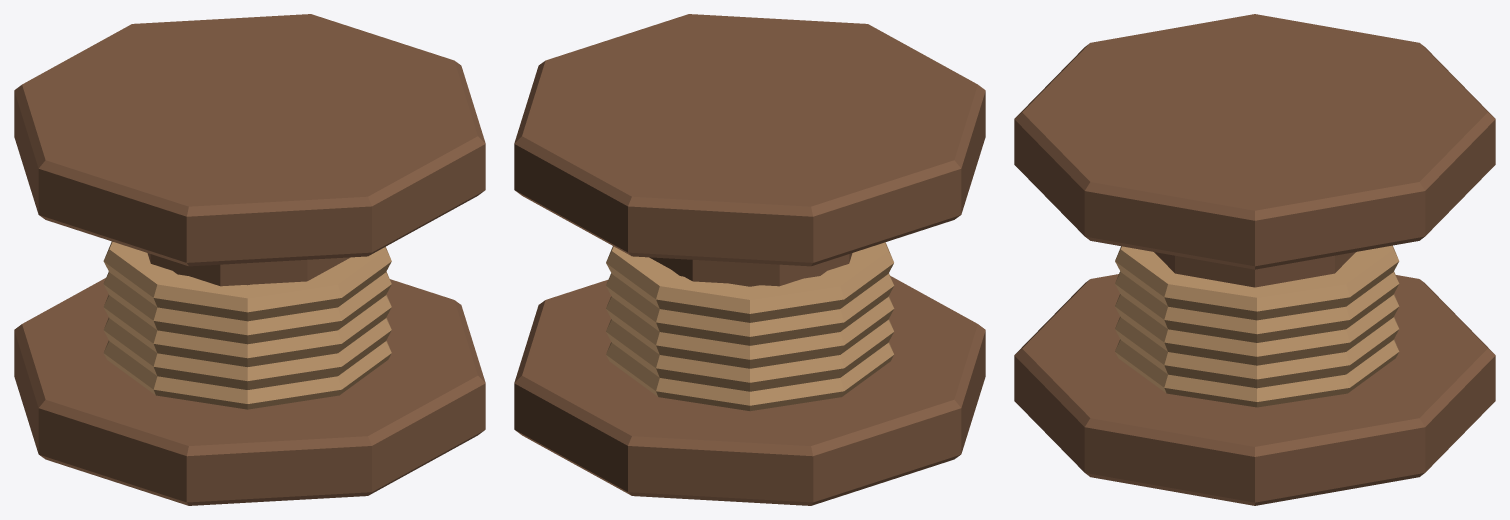
The model's file is Docking_rope.fbx.
The picture shows the model from 3 angles, left to right: view 1: azimuth 30°, elevation 25°; view 2: azimuth 150°, elevation 25°; view 3: azimuth 270°, elevation 25°; orthographic projection.
Parts seen in each view (by area): view 1: Docking_rope; view 2: Docking_rope; view 3: Docking_rope.
Part boxes in pixels (x1=…): Docking_rope: x1=14, y1=14, x2=485, y2=505; Docking_rope: x1=514, y1=14, x2=985, y2=505; Docking_rope: x1=1014, y1=14, x2=1495, y2=505.
Bounding box in the file's own units: 101 × 101 × 68.45.
